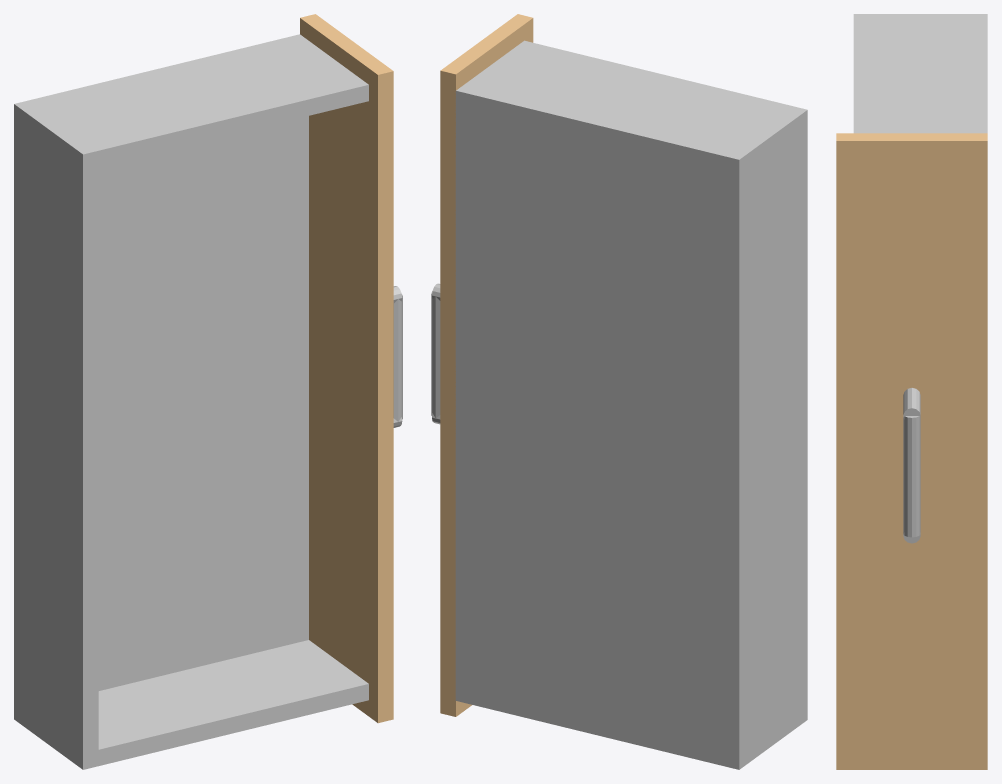
The model's file is SHELF1-BODYSET3_link_mesh.dae.
3 views of the same model, side by side, from view 1: azimuth 30°, elevation 25°; view 2: azimuth 150°, elevation 25°; view 3: azimuth 270°, elevation 25° (orthographic). The views are drawn at different scales.
Parts seen in each view (by area): view 1: SHELF1-BODYSET3_link (×3); view 2: SHELF1-BODYSET3_link (×3); view 3: SHELF1-BODYSET3_link (×4).
Boxes of the visible parts, x1,y1,x2,y2 form: SHELF1-BODYSET3_link (×3): [14, 14, 402, 769]; SHELF1-BODYSET3_link (×3): [431, 14, 807, 769]; SHELF1-BODYSET3_link (×4): [836, 14, 987, 769].
Size of the model in its own units: 0.4445 by 0.79 by 0.1725.
